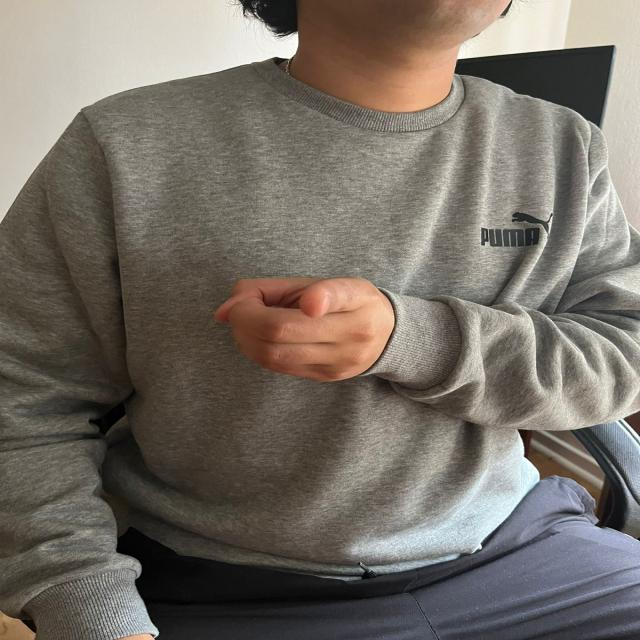X: (222, 262, 398, 387)
